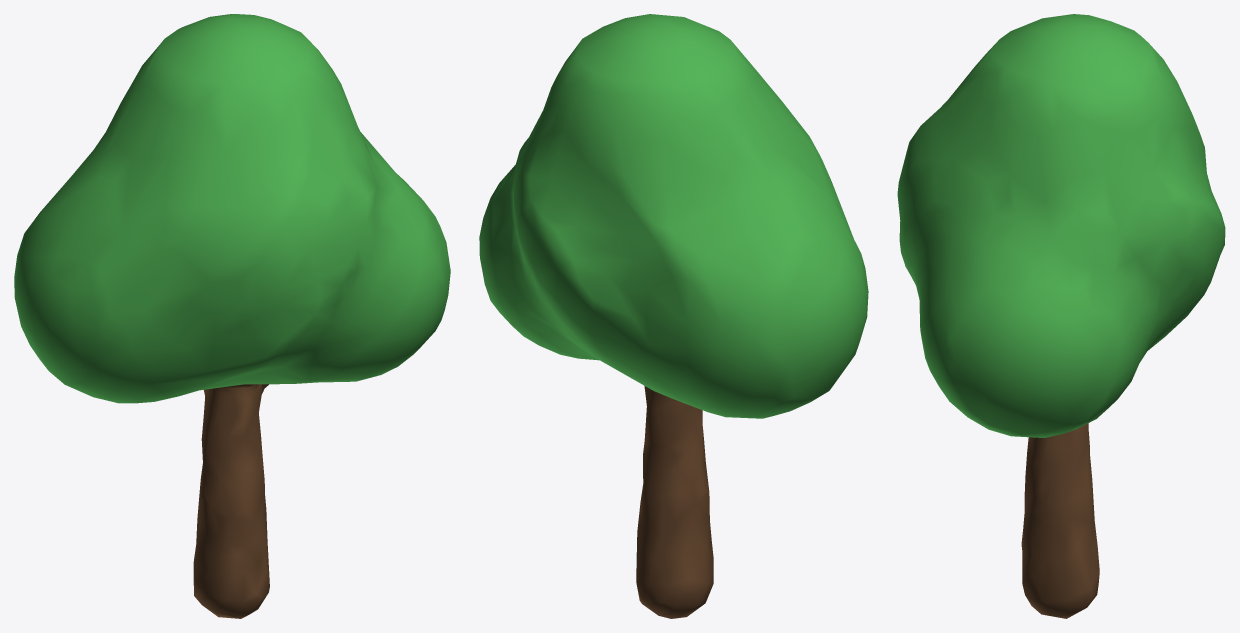
File: tree.lod1.glb
3 renders of one model, left to right at view 1: azimuth 30°, elevation 25°; view 2: azimuth 150°, elevation 25°; view 3: azimuth 270°, elevation 25°, orthographic.
Parts seen in each view (by area): view 1: root; view 2: root; view 3: root.
Boxes of the visible parts, bbox=[...] form: root: bbox=[14, 14, 450, 618]; root: bbox=[479, 14, 868, 618]; root: bbox=[897, 14, 1225, 618].
Size of the model in its own units: 1.67 by 2.45 by 1.22.
